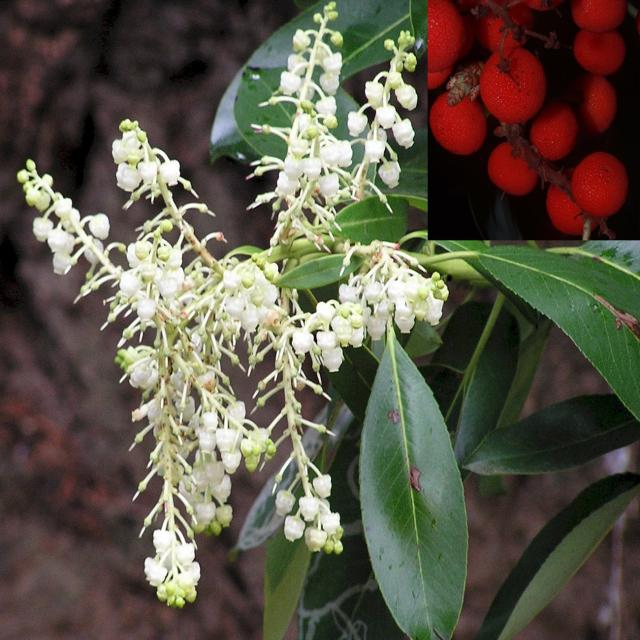Arbutus menziesii: (18, 4, 451, 615)
